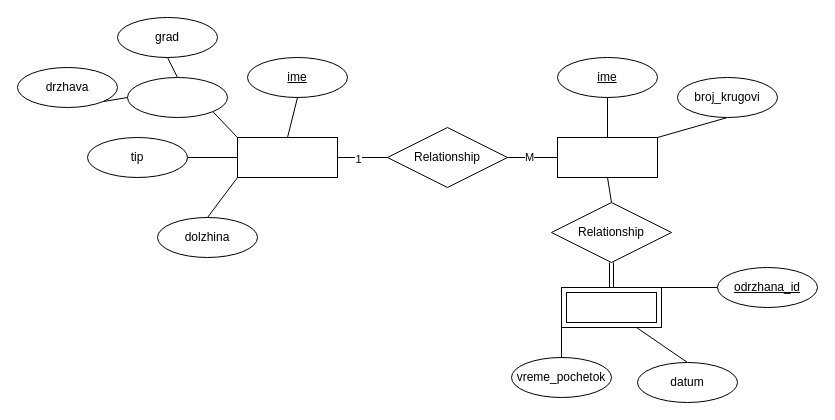
This 835x420 diagram has some shape labels left out. Each missing label, with the centre of its shape:
"lokacija" goes at (177,97).
"odrzhana_trka" goes at (611,307).
"pateka" goes at (287,157).
"trka" goes at (607,157).
